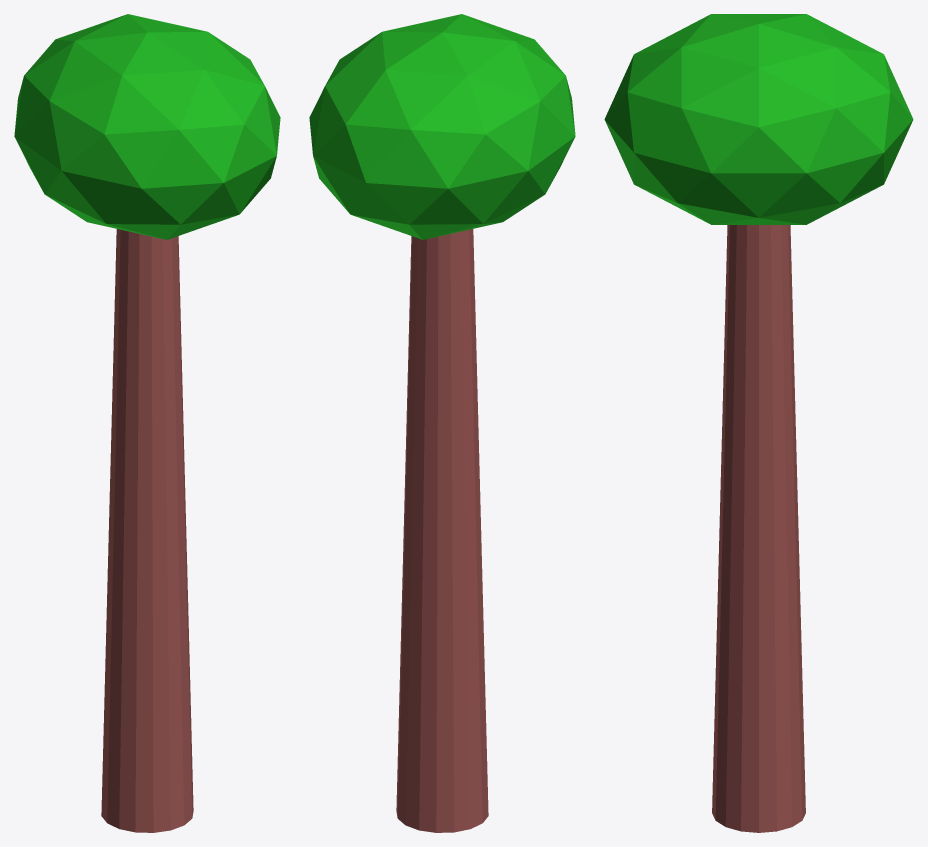
The model's file is Arvore.fbx.
3 renders of one model, left to right at view 1: azimuth 30°, elevation 25°; view 2: azimuth 150°, elevation 25°; view 3: azimuth 270°, elevation 25°, orthographic.
Visible parts, largest first — view 1: Arvore; view 2: Arvore; view 3: Arvore.
Part boxes in pixels (box(x1,y1,x2,y2)): Arvore: box(14, 14, 280, 832); Arvore: box(309, 14, 575, 832); Arvore: box(604, 14, 913, 832).
Bounding box in the file's own units: 272 × 927 × 329.
